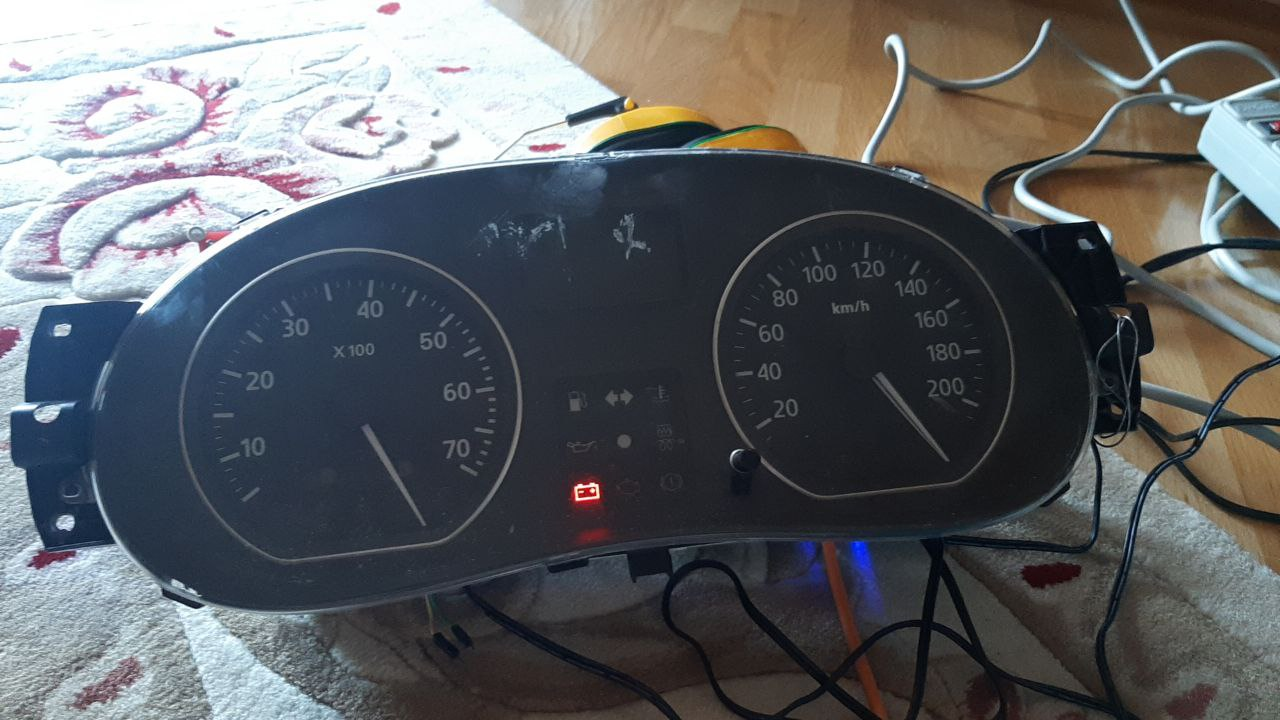accumulator: (566, 476, 600, 504)
